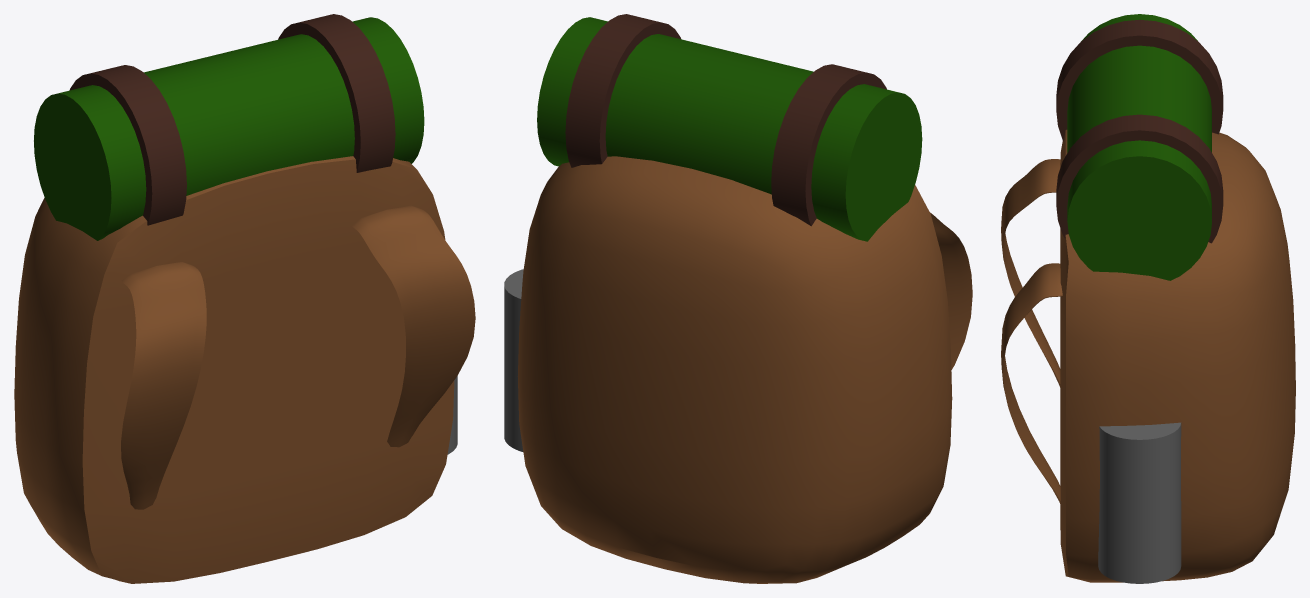
The model's file is Backpack.fbx.
3 renders of one model, left to right at view 1: azimuth 30°, elevation 25°; view 2: azimuth 150°, elevation 25°; view 3: azimuth 270°, elevation 25°, orthographic. The views are drawn at different scales.
Parts seen in each view (by area): view 1: Cylinder.001; view 2: Cylinder.001; view 3: Cylinder.001.
Boxes of the visible parts, x1,y1,x2,y2 form: Cylinder.001: [14, 14, 475, 583]; Cylinder.001: [504, 14, 972, 583]; Cylinder.001: [1001, 14, 1295, 583].
Bounding box in the file's own units: 212 × 239 × 140.
